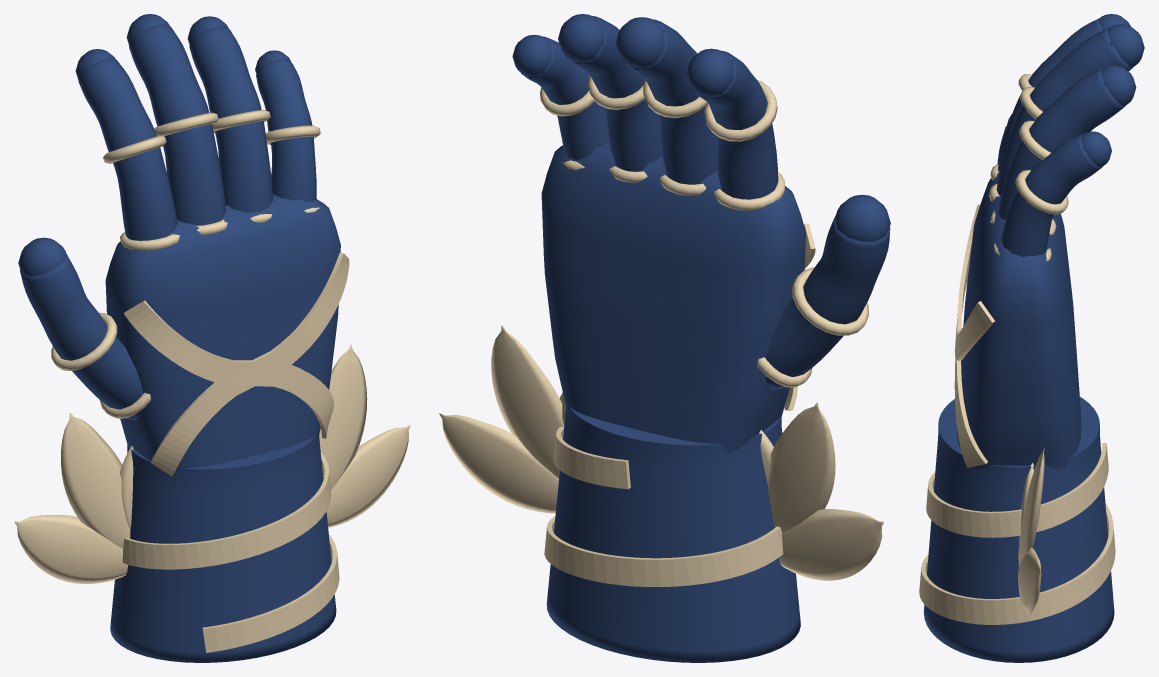
File: gloves_haste_common.glb
The picture shows the model from 3 angles, left to right: view 1: azimuth 30°, elevation 25°; view 2: azimuth 150°, elevation 25°; view 3: azimuth 270°, elevation 25°; orthographic projection. The views are drawn at different scales.
Parts seen in each view (by area): view 1: gloves_haste_common; view 2: gloves_haste_common; view 3: gloves_haste_common.
Part boxes in pixels (bbox=[...]): gloves_haste_common: bbox=[14, 14, 410, 662]; gloves_haste_common: bbox=[439, 14, 890, 662]; gloves_haste_common: bbox=[919, 14, 1144, 662].
Size of the model in its own units: 1.77 by 2.45 by 0.8701.
